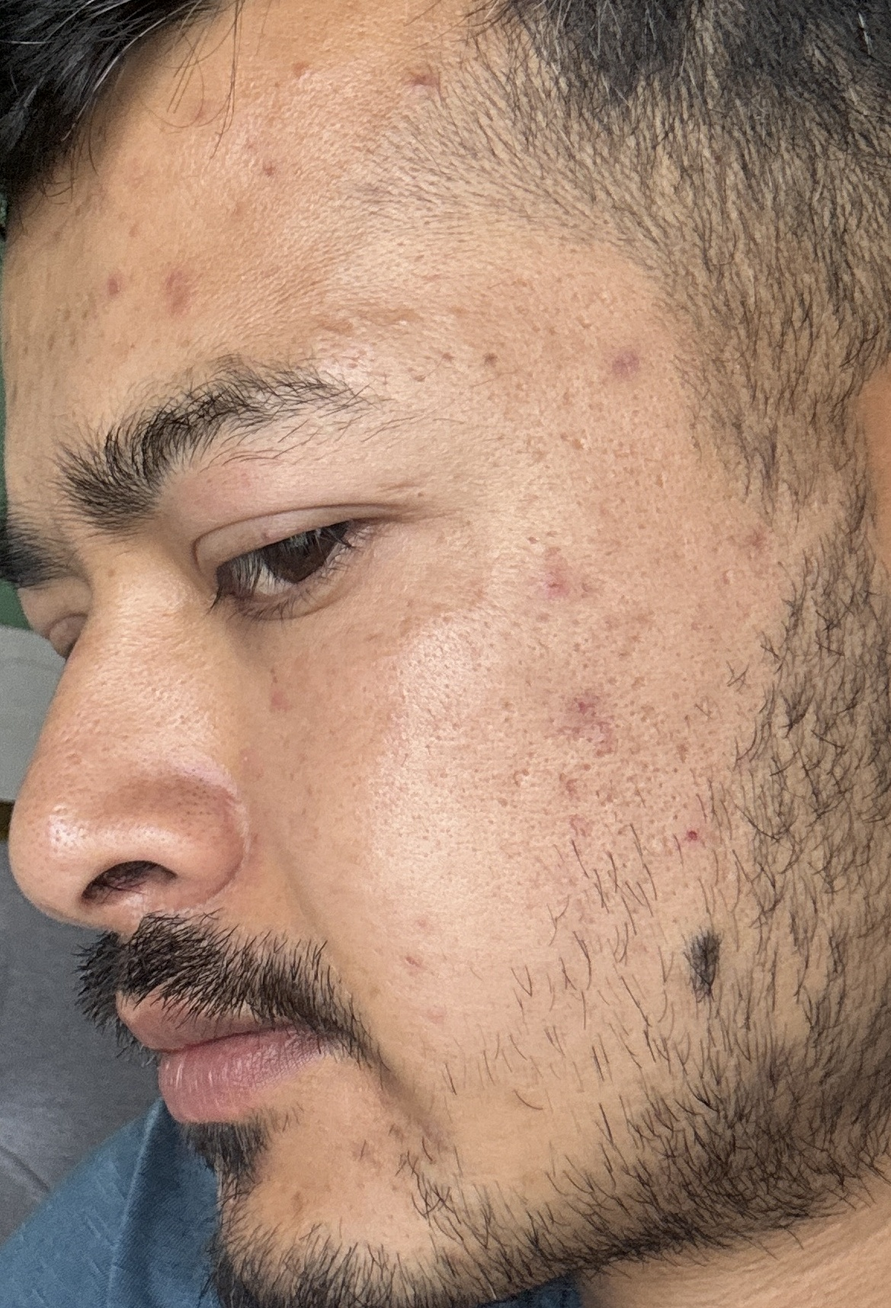closed_comedone: (370, 298, 491, 360)
papule: (521, 516, 625, 617), (713, 516, 806, 581), (551, 671, 622, 751), (588, 337, 659, 414), (152, 259, 221, 332), (392, 60, 446, 125), (85, 268, 133, 315)
